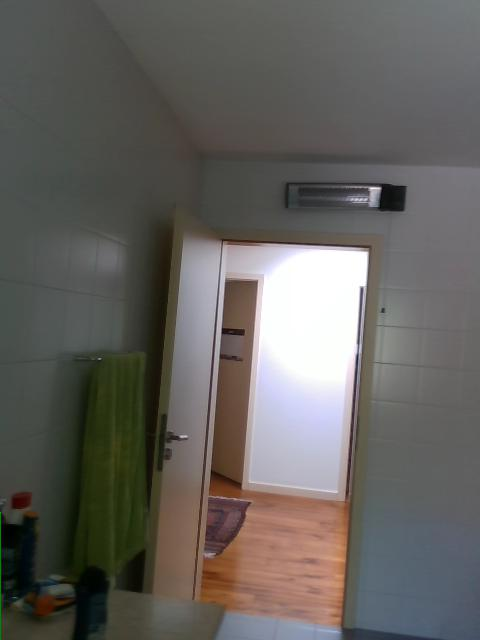door: (143, 203, 222, 640)
